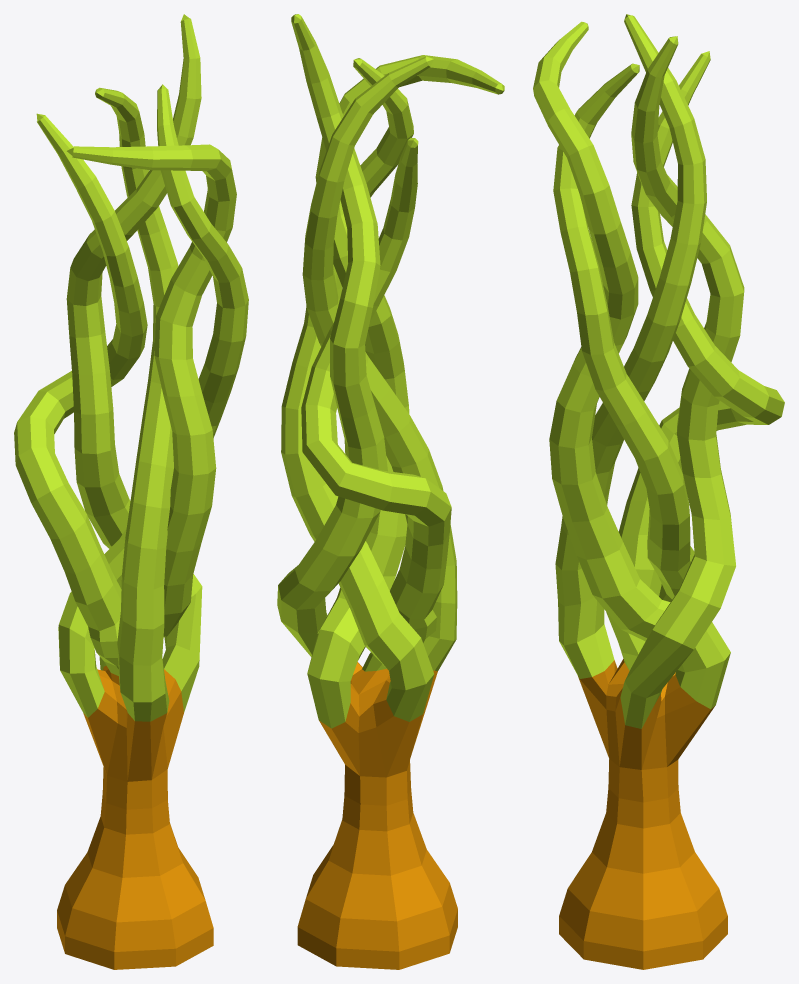
File: Tree_17_Var_01.fbx
3 views of the same model, side by side, from view 1: azimuth 30°, elevation 25°; view 2: azimuth 150°, elevation 25°; view 3: azimuth 270°, elevation 25° (orthographic). The views are drawn at different scales.
Visible parts, largest first — view 1: Tree_17_Var_01; view 2: Tree_17_Var_01; view 3: Tree_17_Var_01.
Boxes of the visible parts, x1,y1,x2,y2 form: Tree_17_Var_01: (14,14,248,969); Tree_17_Var_01: (277,14,504,969); Tree_17_Var_01: (533,14,784,969).
Size of the model in its own units: 0.9998 by 4.08 by 0.869.
